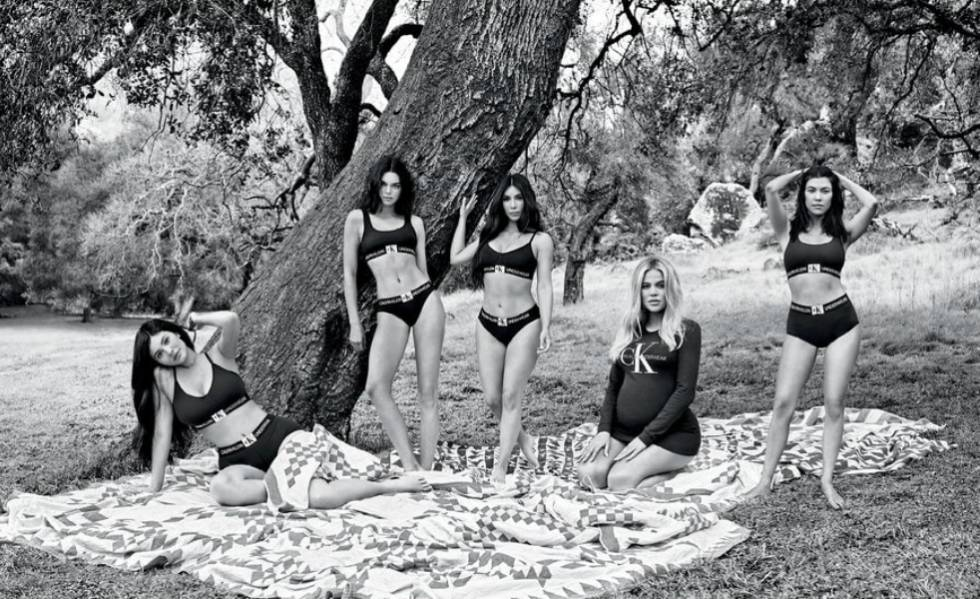person: (597, 244, 706, 401), (479, 162, 569, 299), (336, 155, 434, 265), (771, 142, 848, 274)
